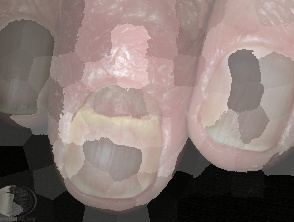Nail_psoriasis: (18, 14, 239, 222), (190, 22, 294, 161)
